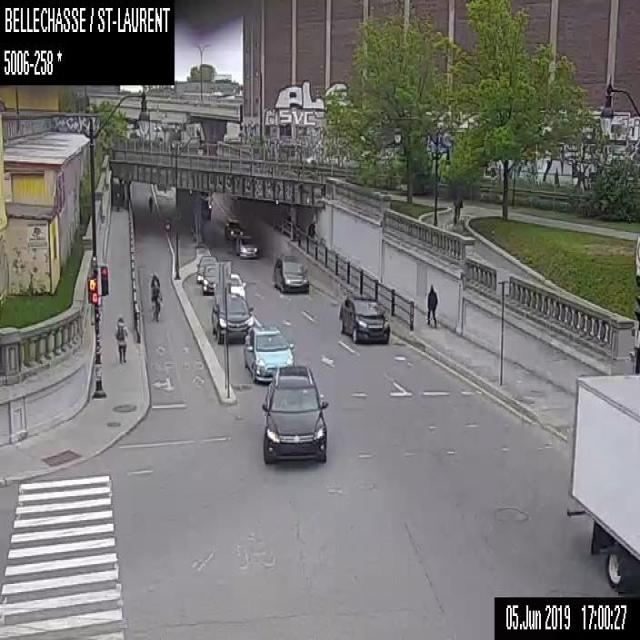cyclist: (150, 281, 162, 321), (150, 273, 160, 288)
pedestrian: (113, 316, 128, 362), (426, 284, 437, 327), (453, 194, 462, 223), (307, 220, 314, 239), (147, 194, 152, 213)
vehicle: (567, 372, 639, 594), (261, 365, 328, 465), (242, 325, 294, 382), (339, 294, 389, 342), (210, 292, 254, 344), (272, 254, 308, 292), (214, 273, 245, 298), (195, 255, 217, 282), (235, 234, 259, 256), (224, 218, 243, 239), (202, 264, 215, 293), (202, 198, 210, 218)
